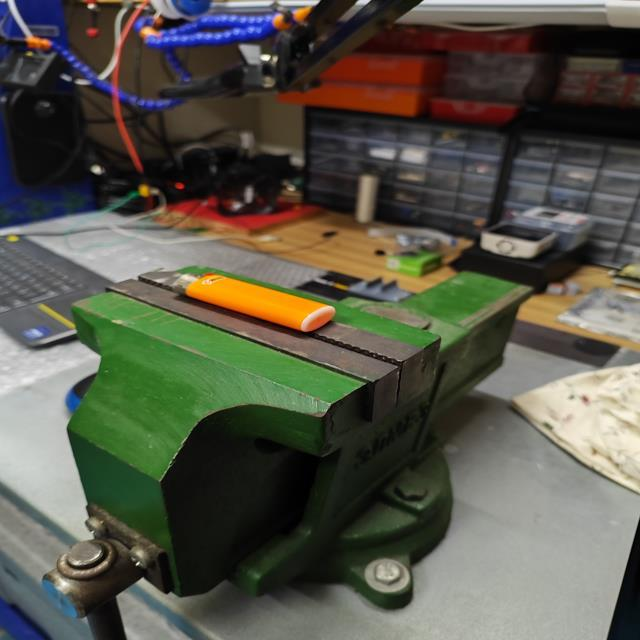lighter: (184, 275, 335, 331)
